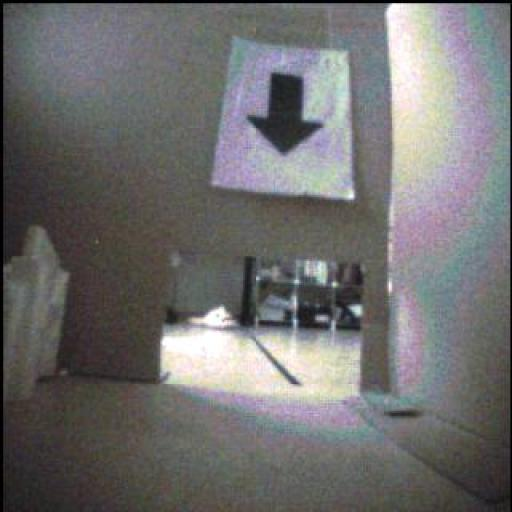arrow: (249, 75, 324, 155)
